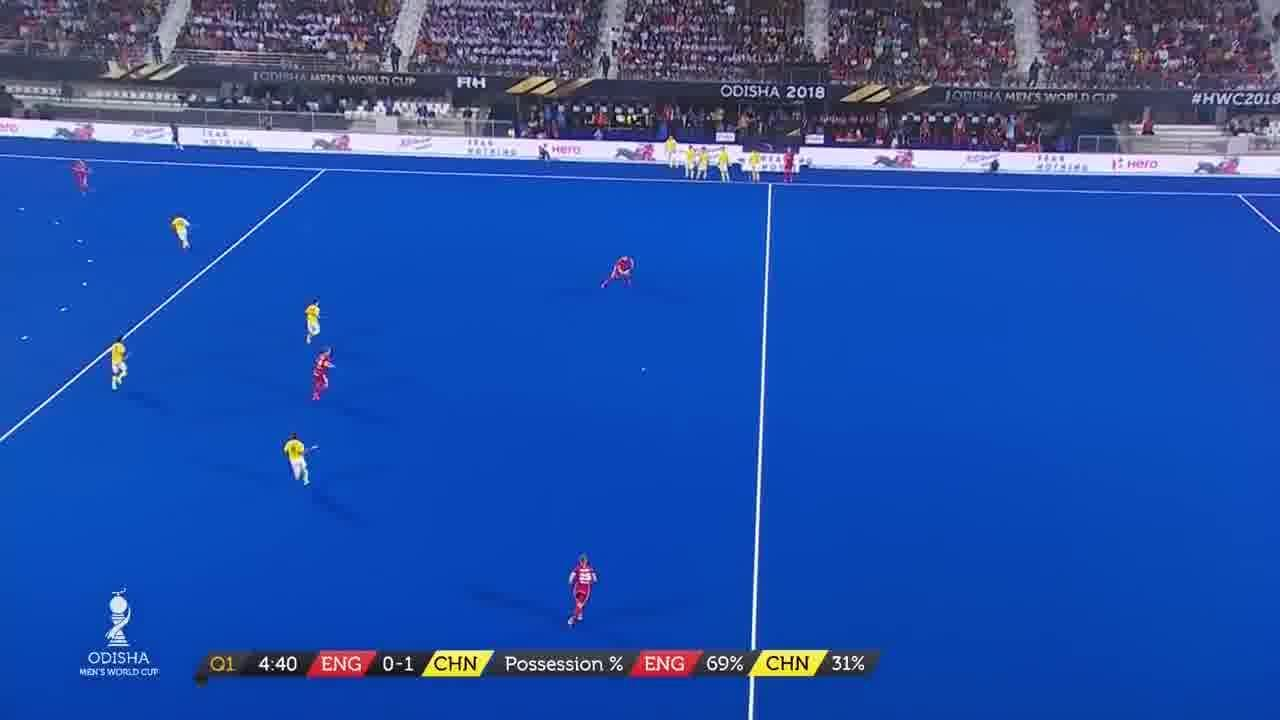ball: (638, 367, 648, 375)
